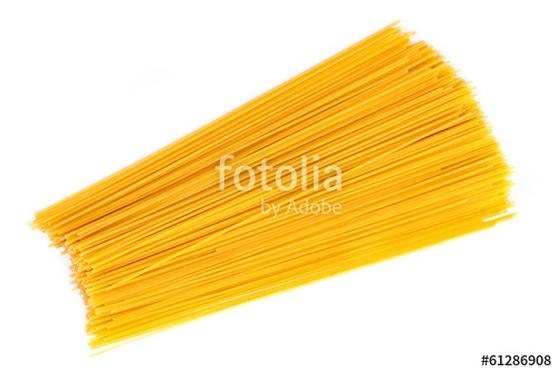spaghetti: (30, 31, 516, 350)
